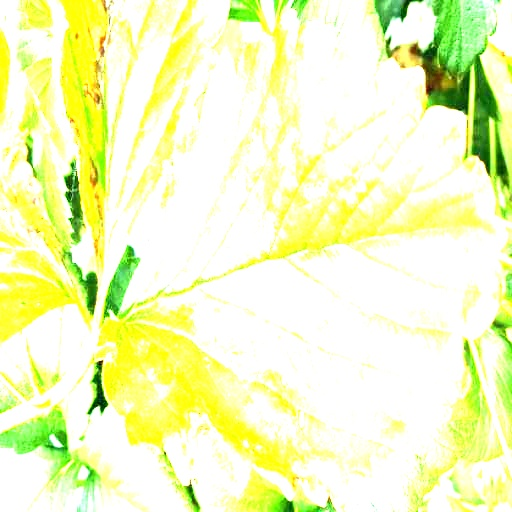Angular Leafspot: (94, 7, 509, 511), (53, 0, 233, 302), (0, 24, 82, 345)
